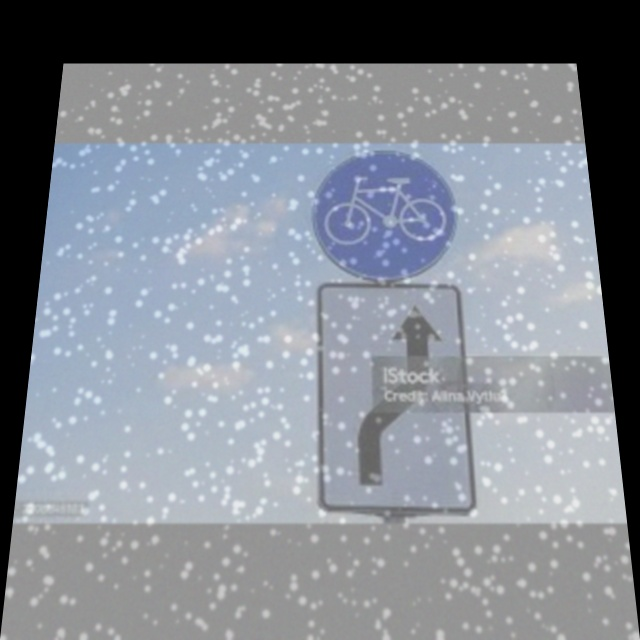Compulsory_Cycle_Track: (312, 151, 463, 279)
